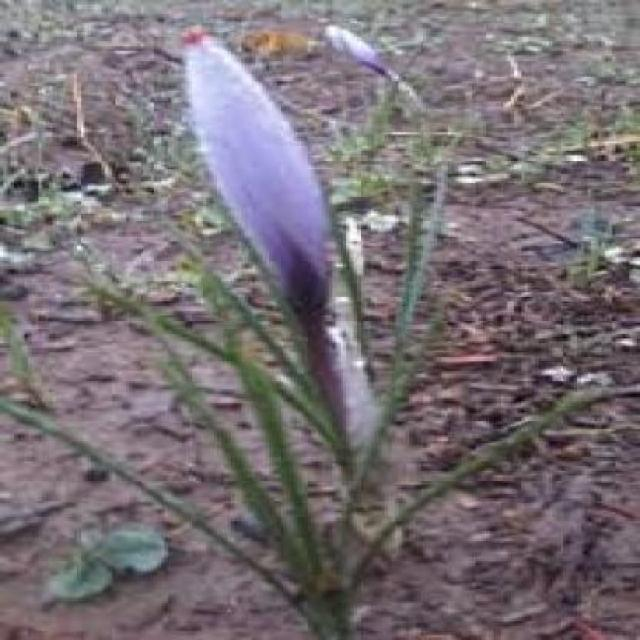Flower: (181, 29, 344, 331)
